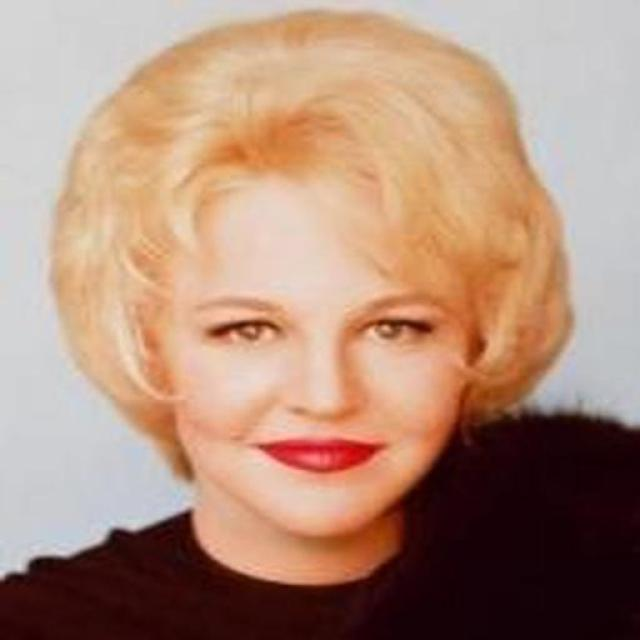bareface: (72, 42, 470, 526)
